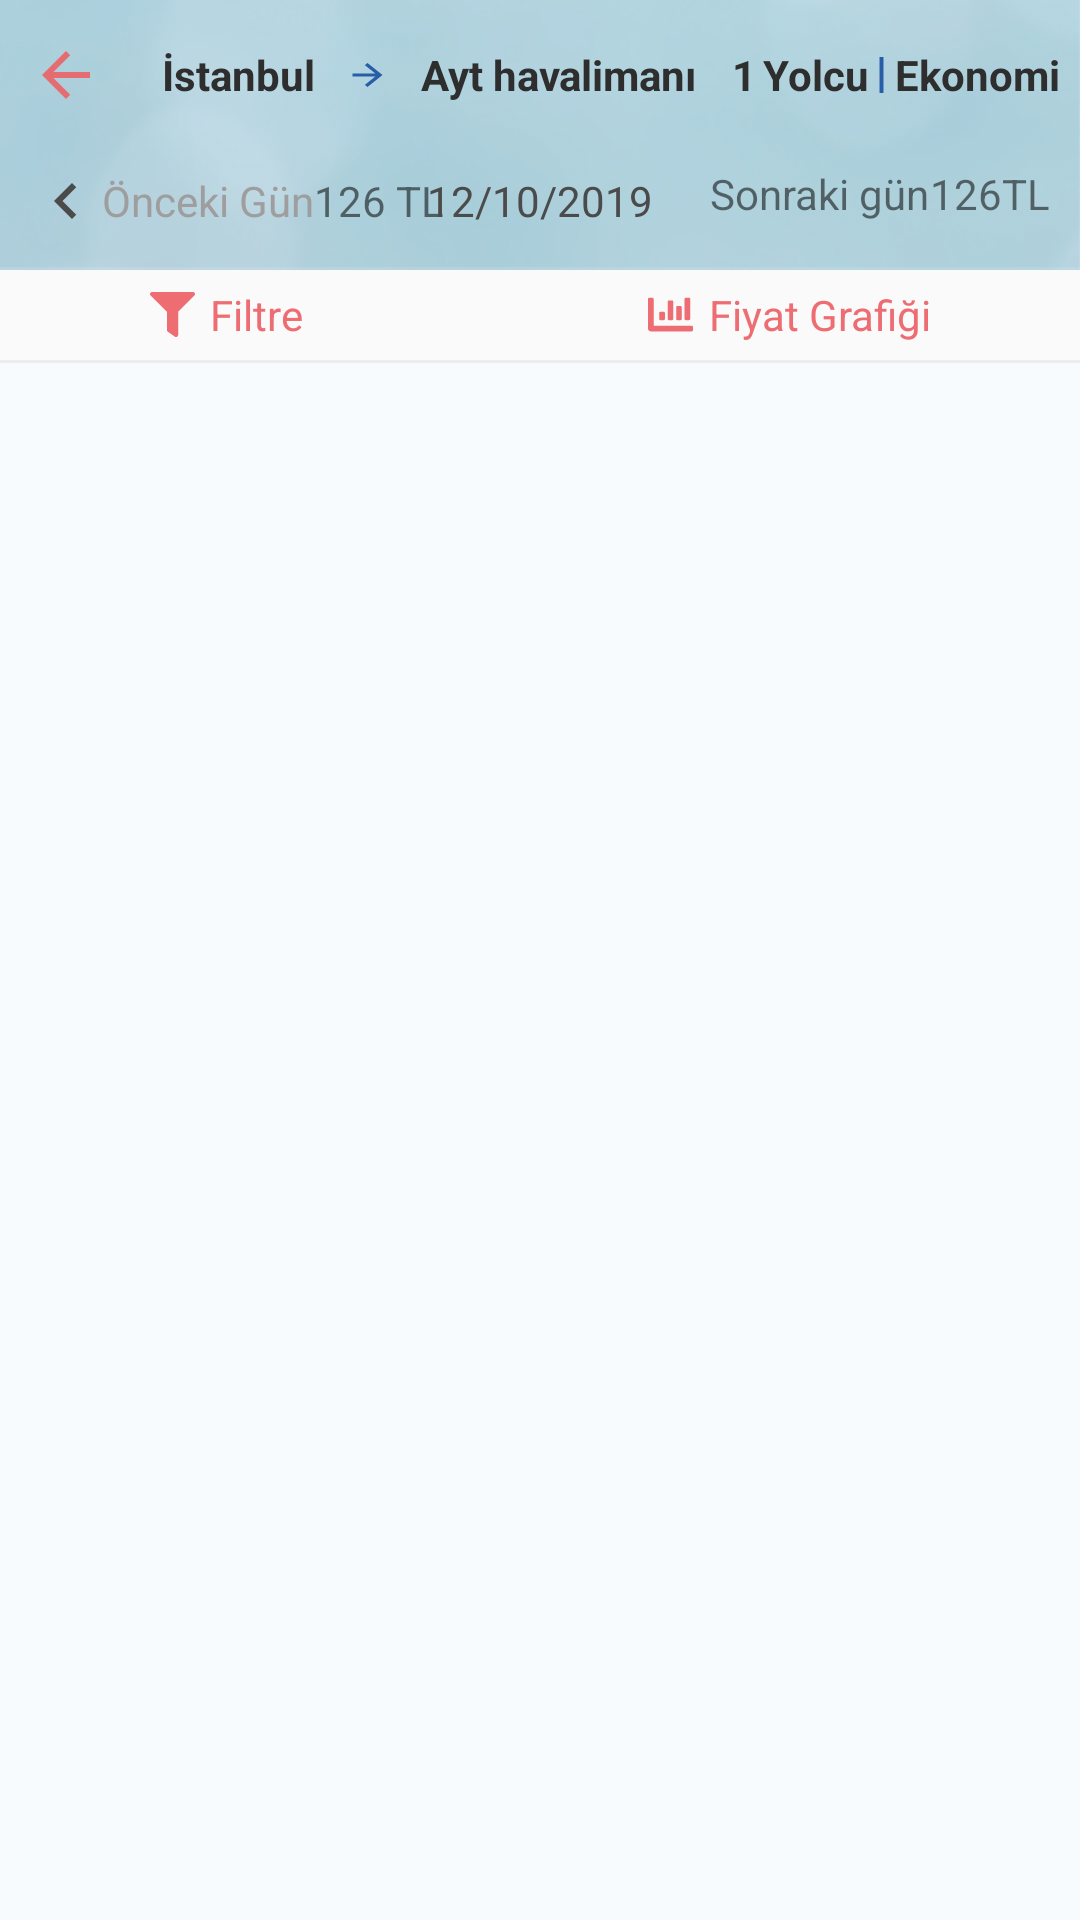

Screen size 1080 x 1920. Icon name, then its center in pixels as (x=x, y=y):
arrow: (x=367, y=75)
back melon: (x=66, y=75)
previous day: (x=65, y=201)
